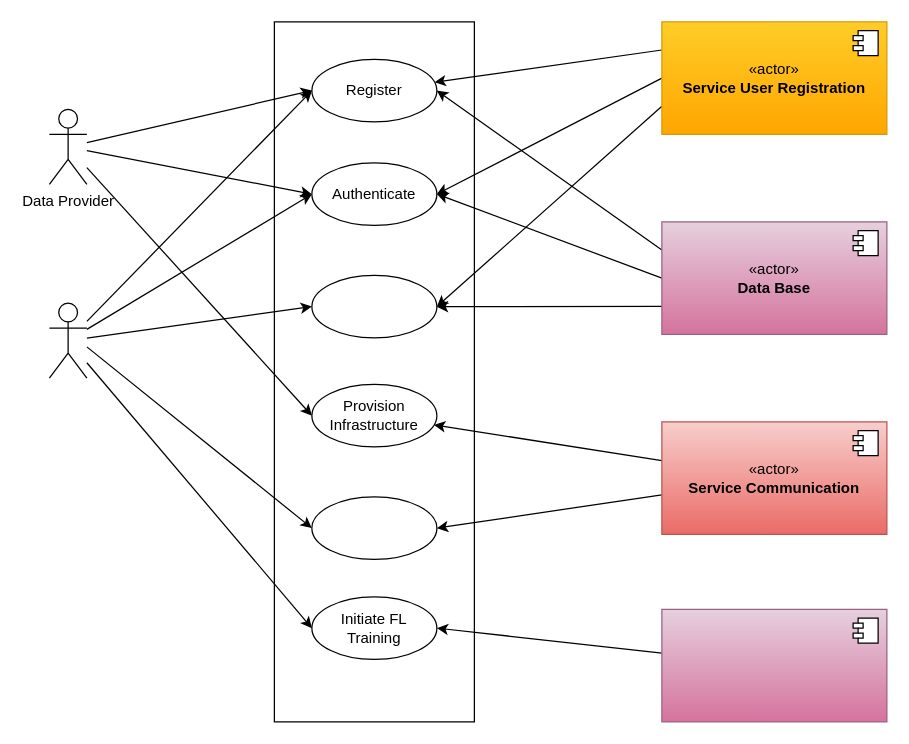
This 909x744 diagram has some shape labels left out. The centre of each missing label's shape, as x and y in pixels:
"Data Scientist" belongs at [67,340].
"Discover Clients" belongs at [374,527].
"View Users" belongs at [374,306].
"«actor» Service FL Training and Aggregation" belongs at [774,665].
